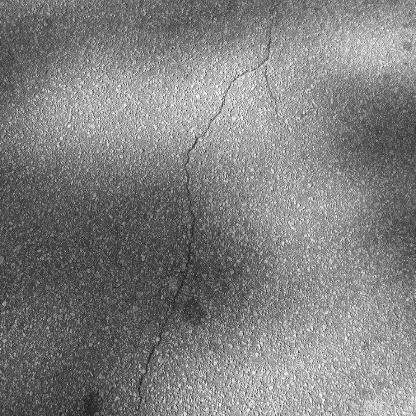Cracks: (181, 0, 285, 231), (129, 233, 199, 416)
